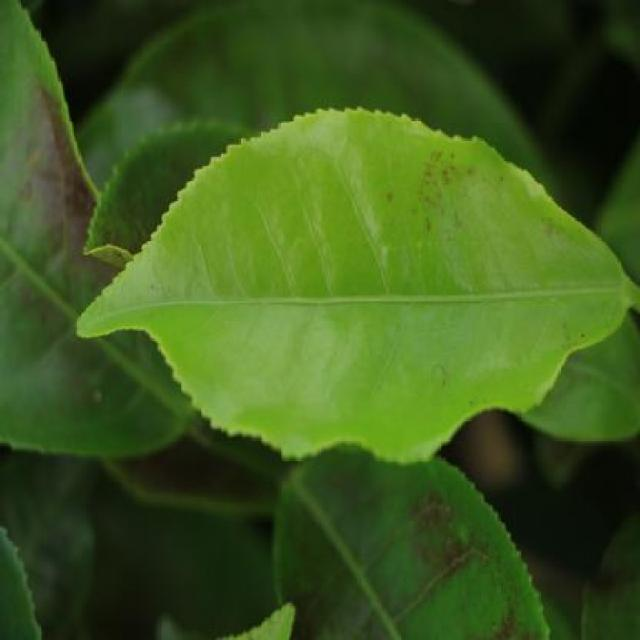Red Spider infested tea leaf: (320, 123, 603, 406), (1, 75, 150, 451)
